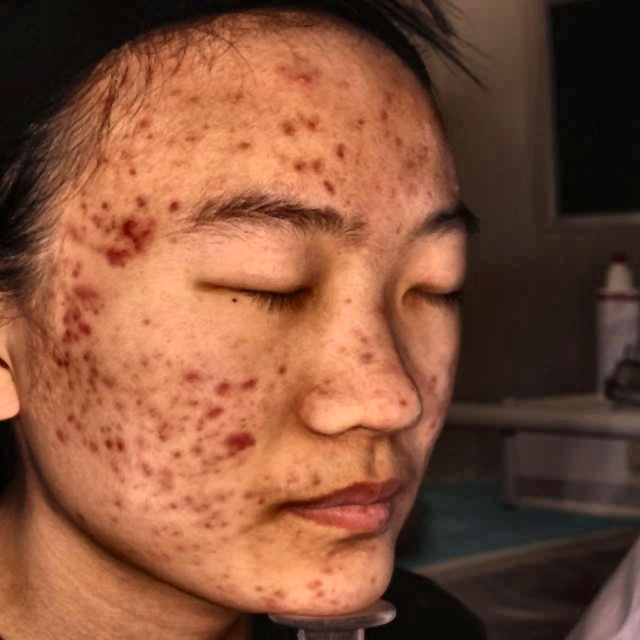papule: (289, 59, 331, 110), (268, 105, 306, 144), (66, 250, 102, 290), (330, 126, 362, 170), (126, 235, 160, 269), (376, 85, 406, 123), (162, 194, 195, 228), (70, 279, 106, 310), (213, 366, 245, 400), (284, 137, 309, 180), (64, 215, 96, 248), (117, 212, 149, 244), (256, 581, 290, 610), (55, 296, 84, 330), (317, 553, 346, 586), (128, 108, 164, 134), (106, 242, 133, 276), (44, 256, 74, 286), (401, 140, 429, 171), (289, 574, 322, 600), (72, 354, 110, 376), (49, 421, 78, 449), (150, 415, 177, 444), (236, 371, 266, 397), (85, 197, 114, 222), (305, 465, 328, 496), (382, 127, 408, 154), (196, 398, 226, 420), (54, 346, 87, 366), (164, 498, 188, 524), (231, 428, 254, 454), (100, 429, 123, 455), (134, 188, 158, 212), (76, 320, 100, 343), (182, 359, 200, 387), (191, 431, 207, 459), (306, 168, 334, 184), (117, 425, 130, 459), (58, 326, 72, 343)
